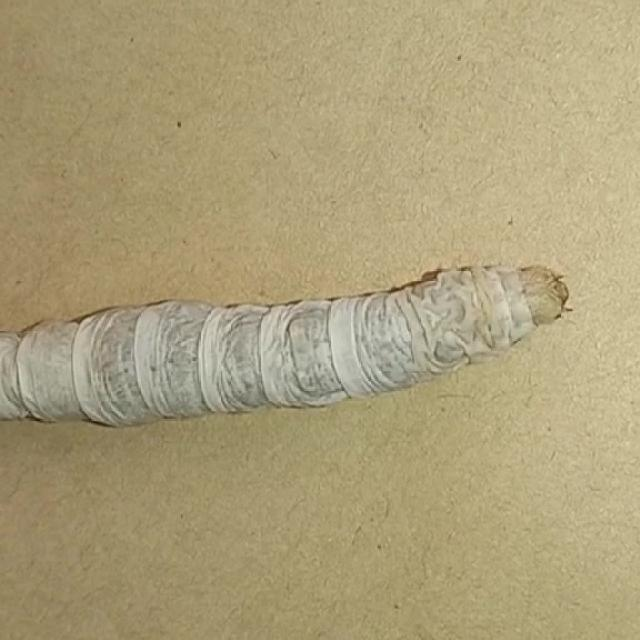Grasserie: (0, 235, 575, 460)
